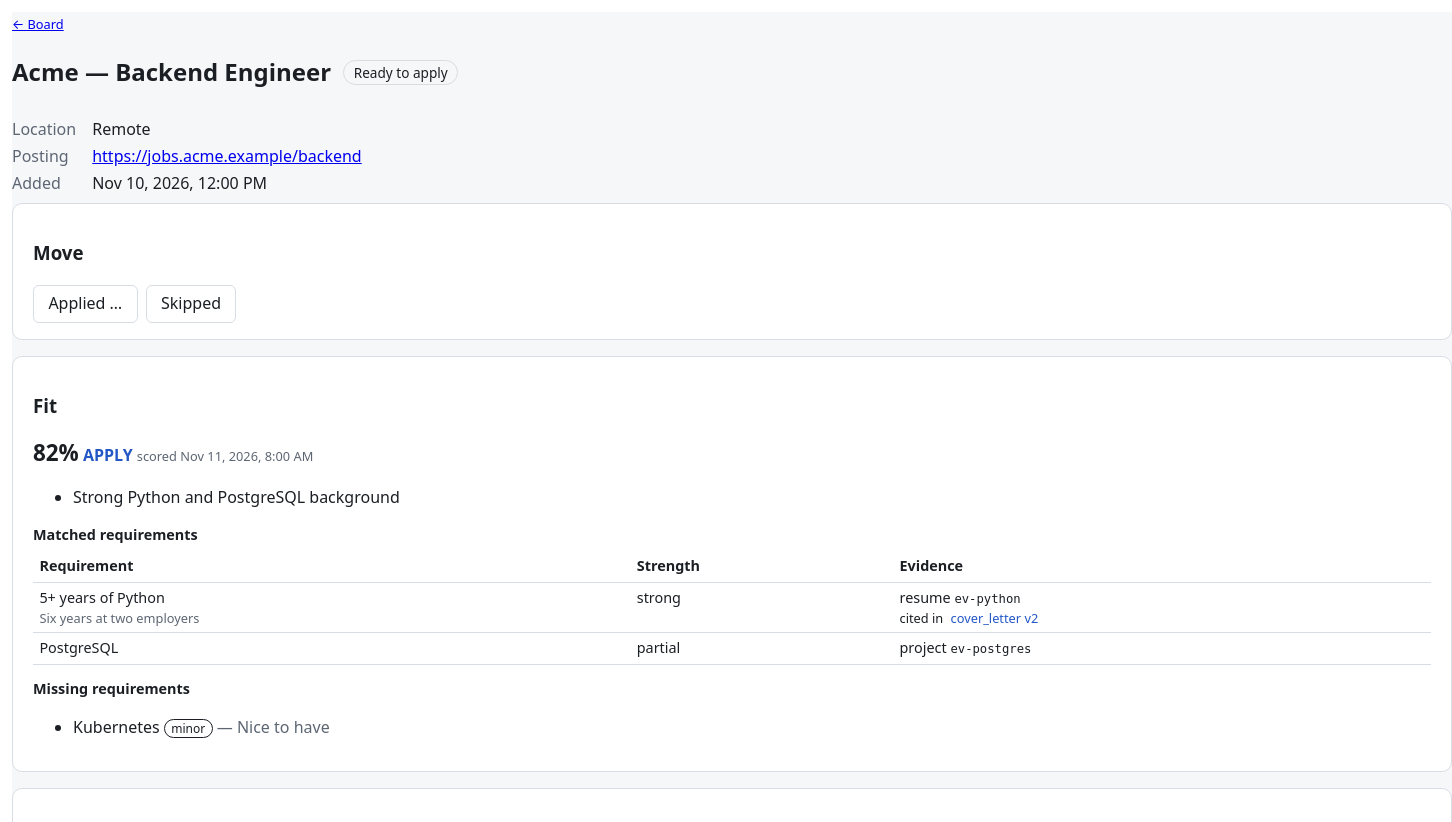
it: an application's detail › offers the API's allowed next states and shows a refusal
What coordinates should you click on to do the following:
click the button "Skipped"
I would click on:
 (191, 304)
Its box is [146,285,236,323].
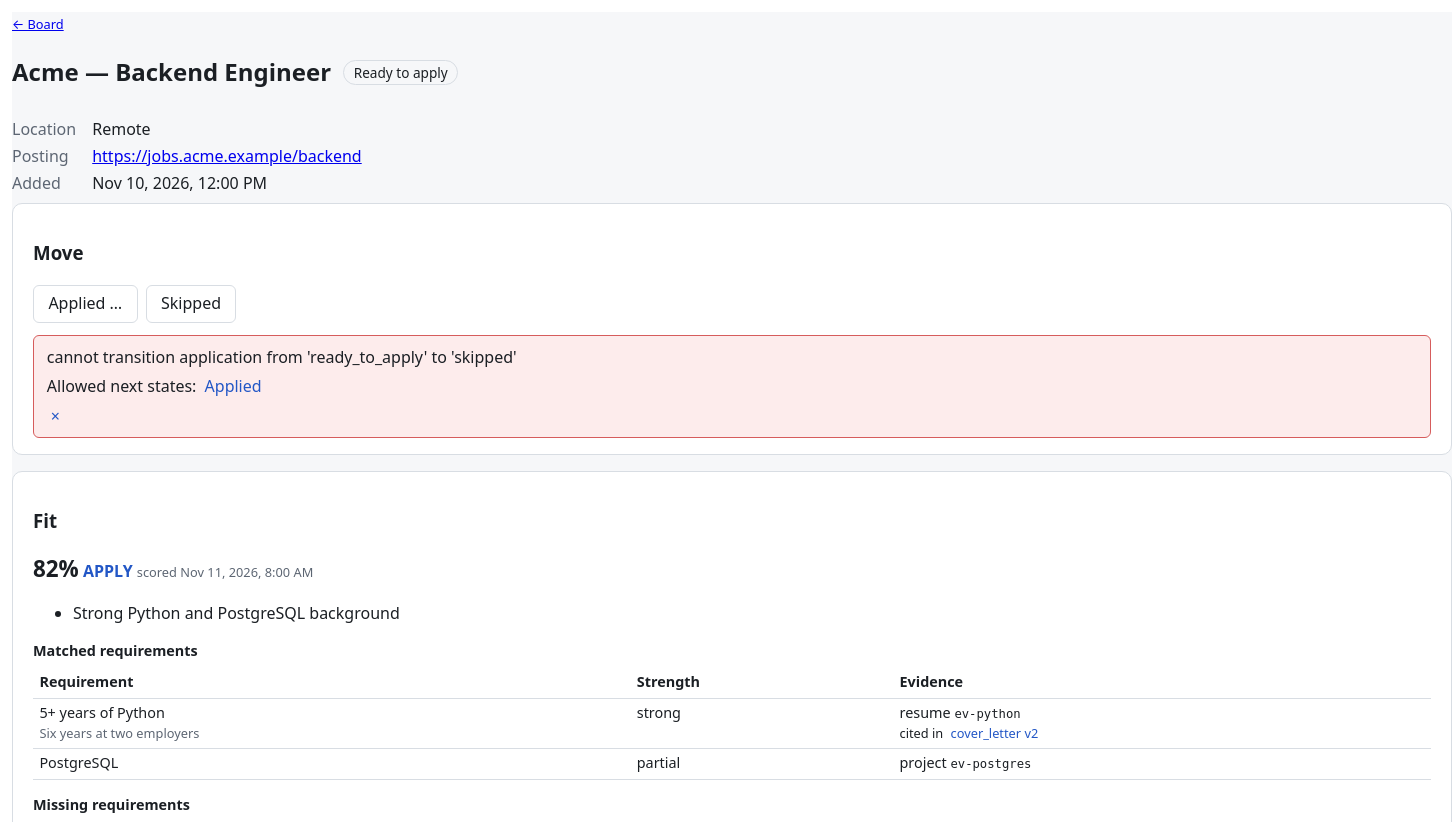
Expected: the text with test id "application-status" reads "Ready to apply", [354,63,448,82]
Result: the message shows "Allowed next states: Applied" at [33,335,1431,438]
